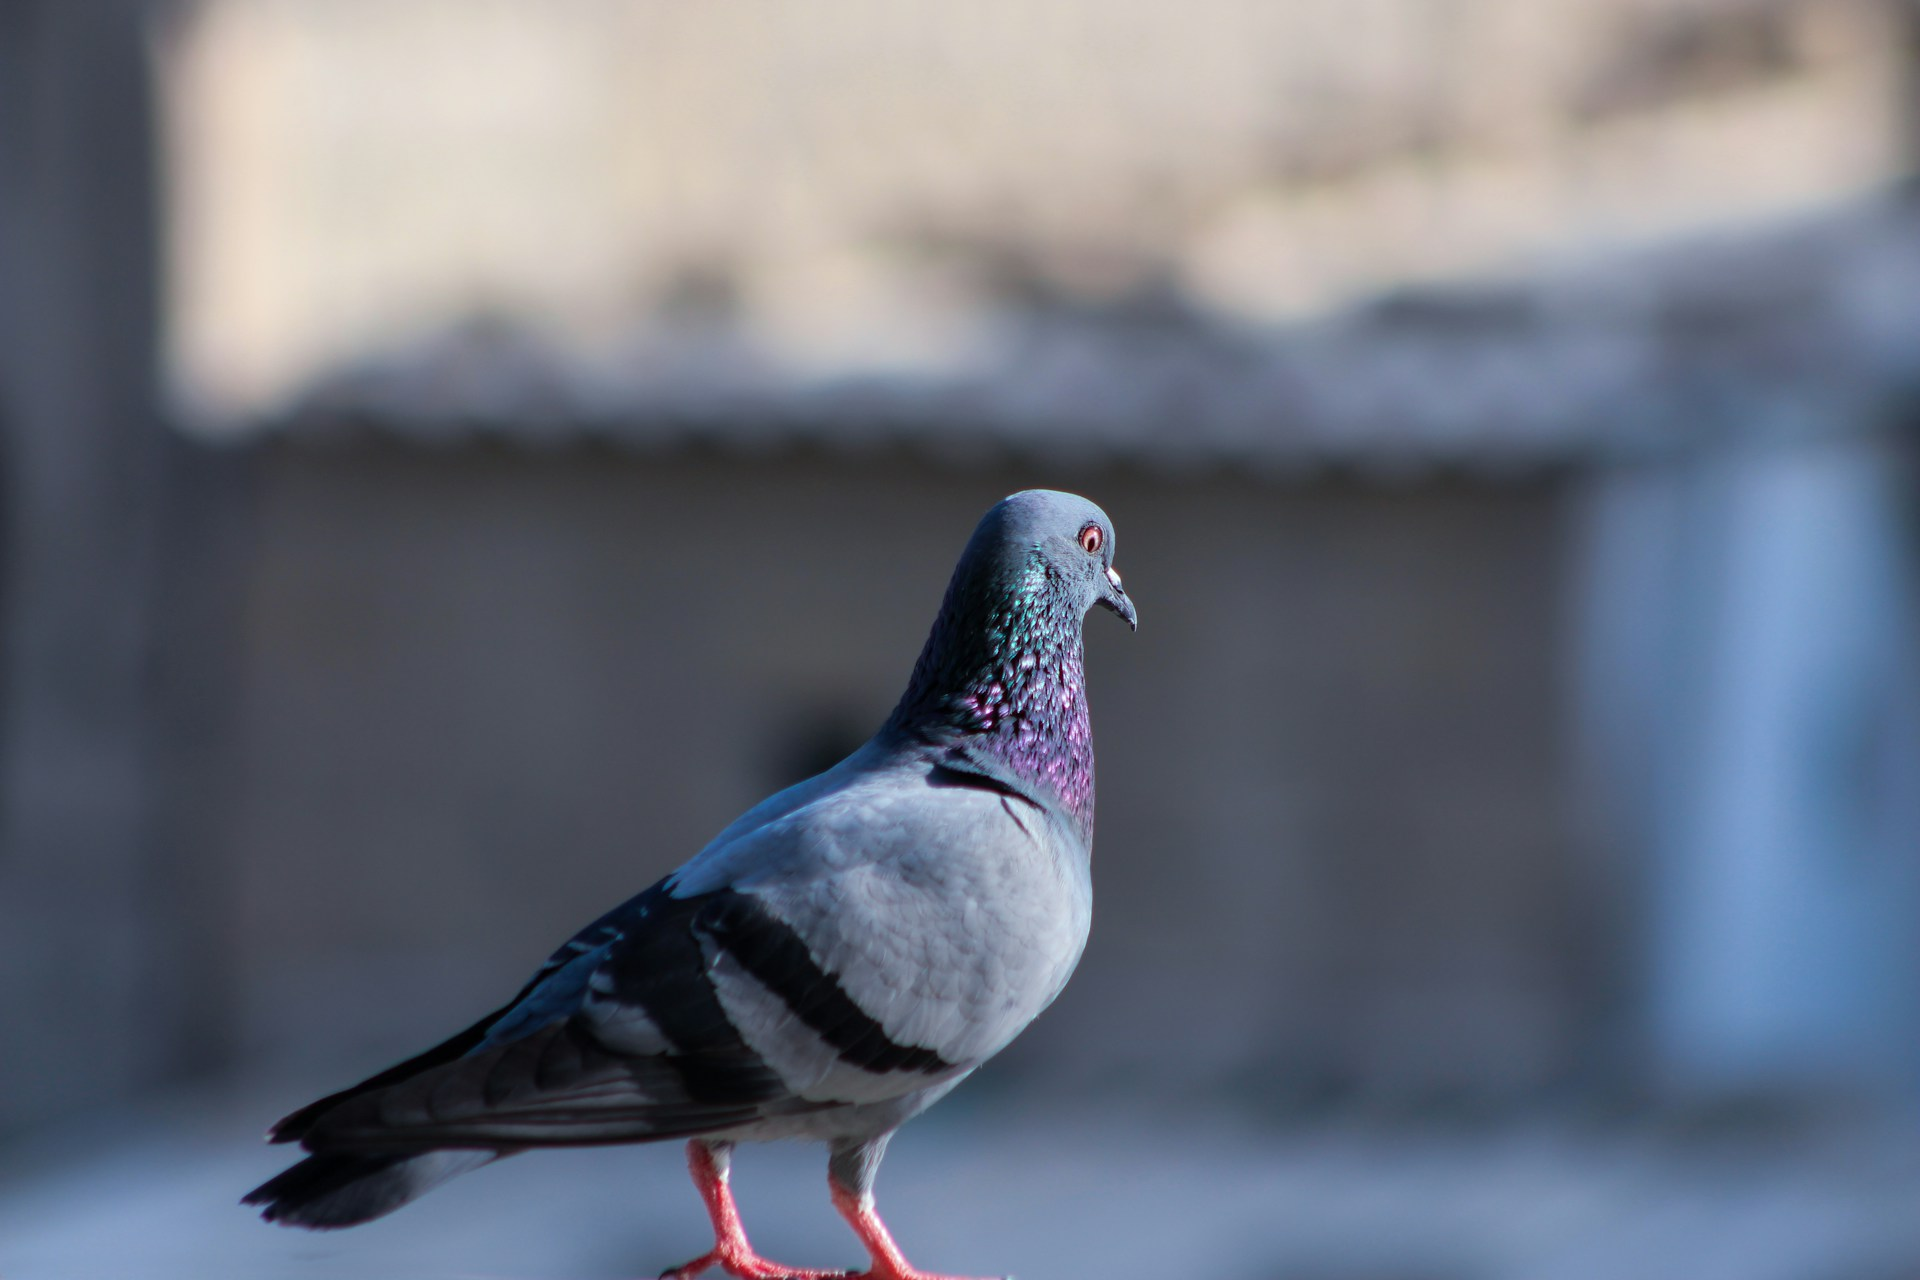pigeon: (230, 467, 1204, 1280)
